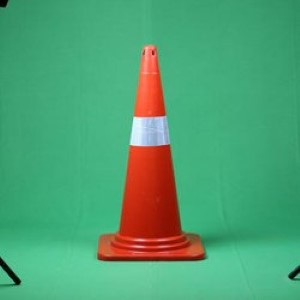traffic cone: (97, 44, 205, 261)
